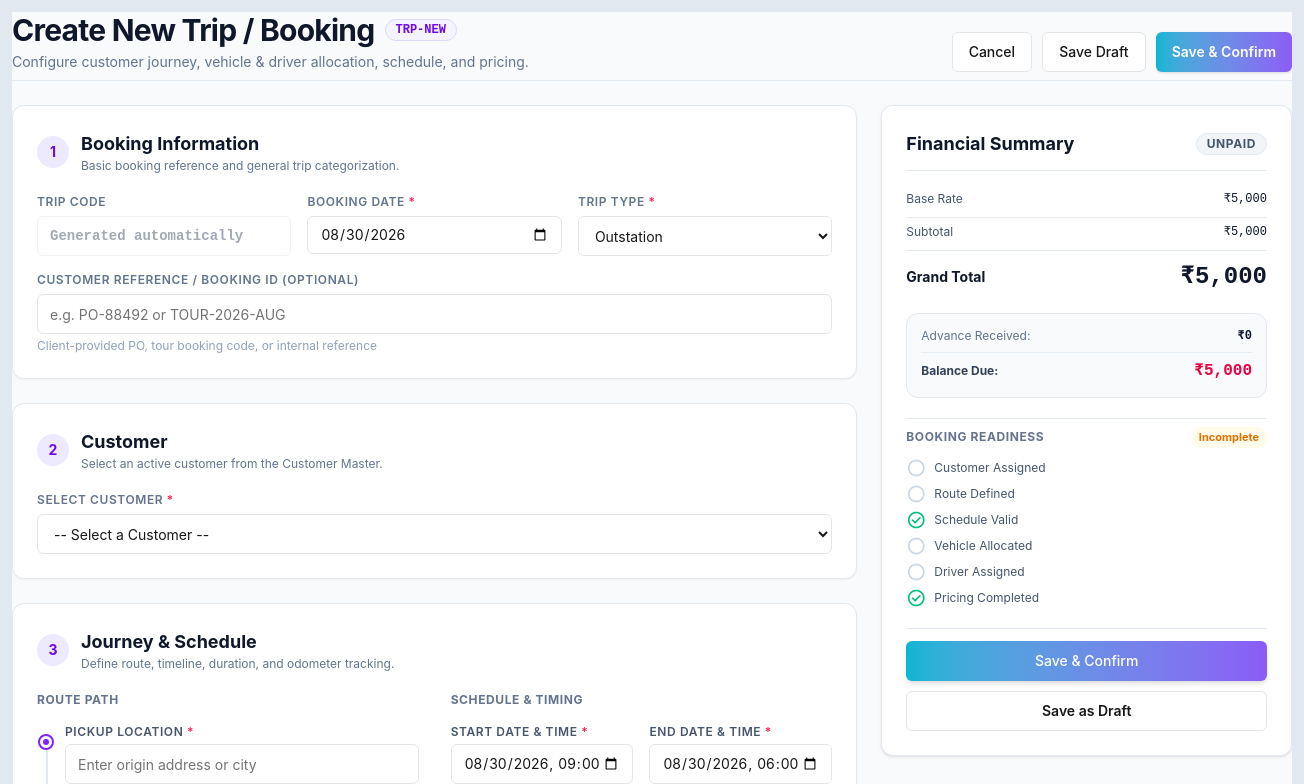
Test: TripForm Component › displays customer snapshot and dues warning when customer with balance is selected
This screenshot has width=1304, height=784.
Select "Acme Logistics Ltd (CUST-001) · 9876543210" in the dropdown labelled "Select Customer *" at (435, 534), box [37, 514, 832, 554]
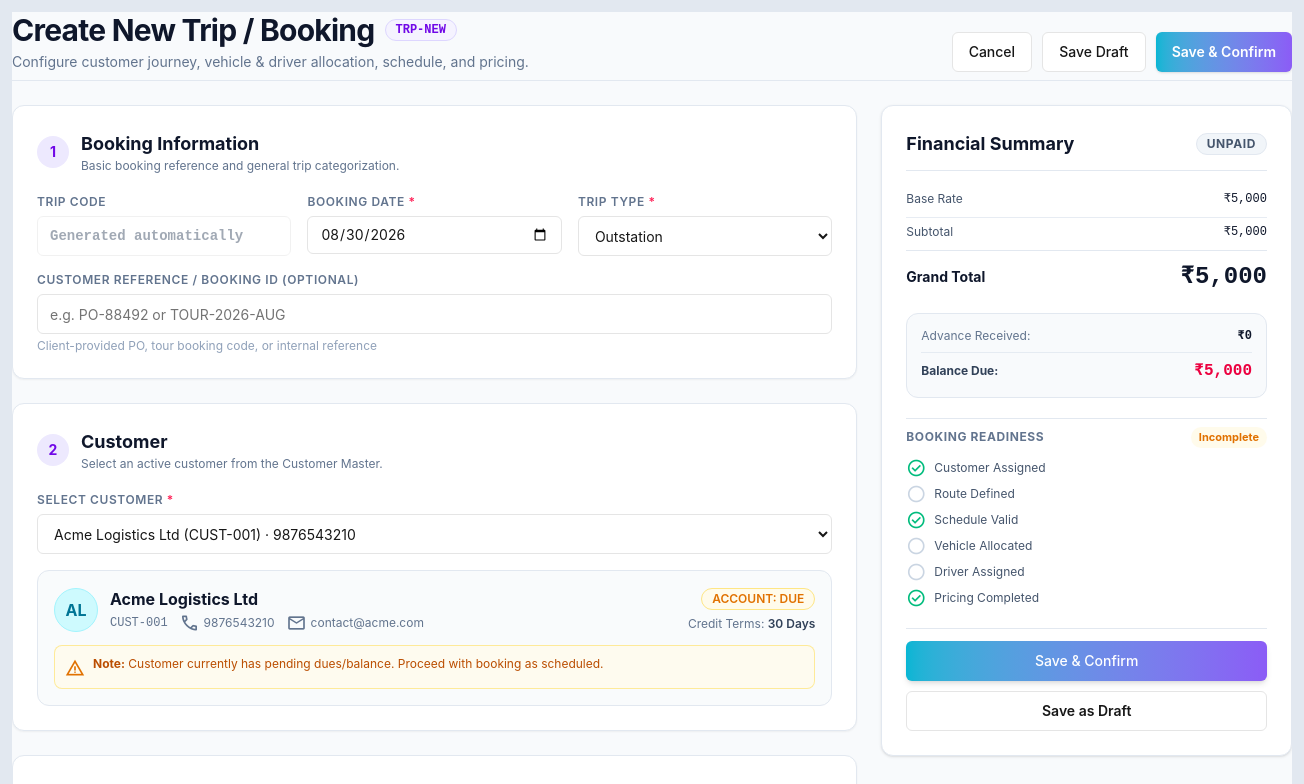
Now the heading "Acme Logistics Ltd" is shown, box [110, 589, 258, 609]
Now the text "CUST-001" is shown, box [110, 615, 168, 631]
Now the text "9876543210" is shown, box [180, 613, 275, 633]
